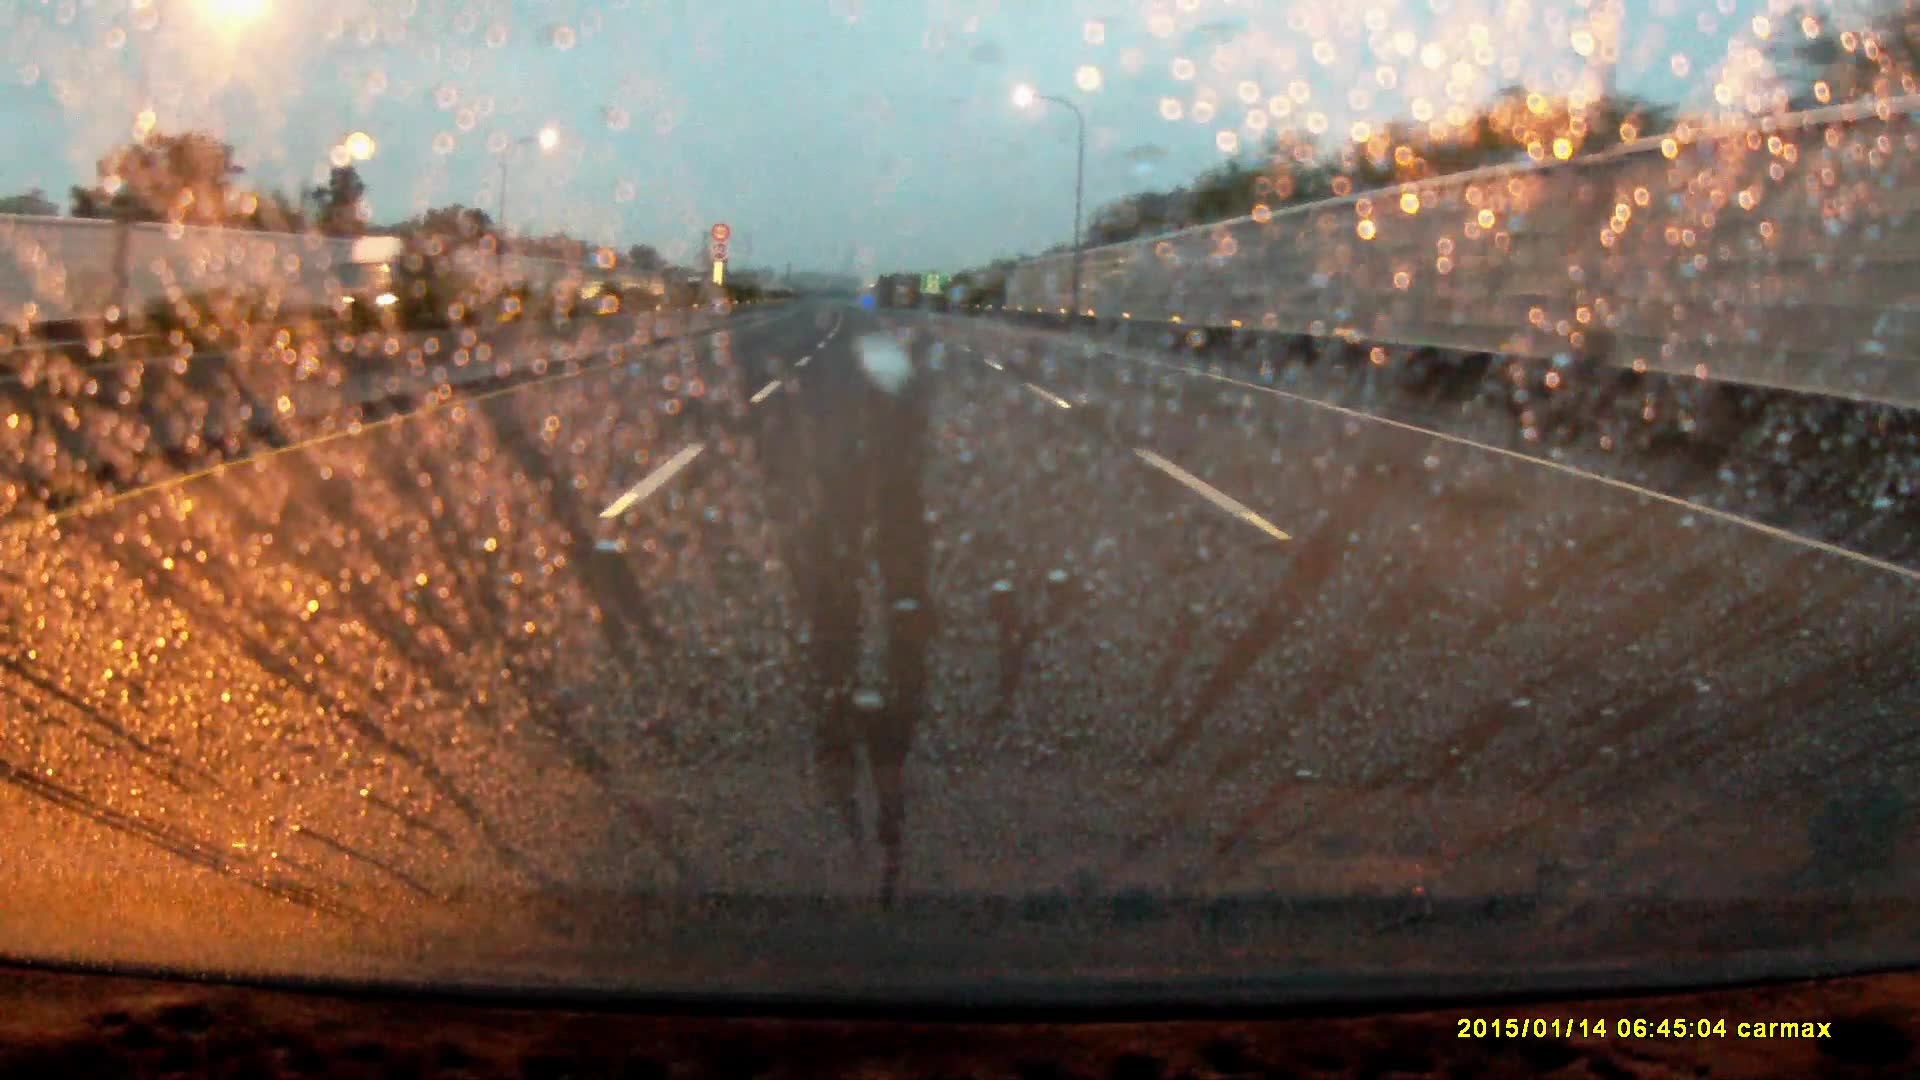vehicle: (338, 228, 459, 320)
